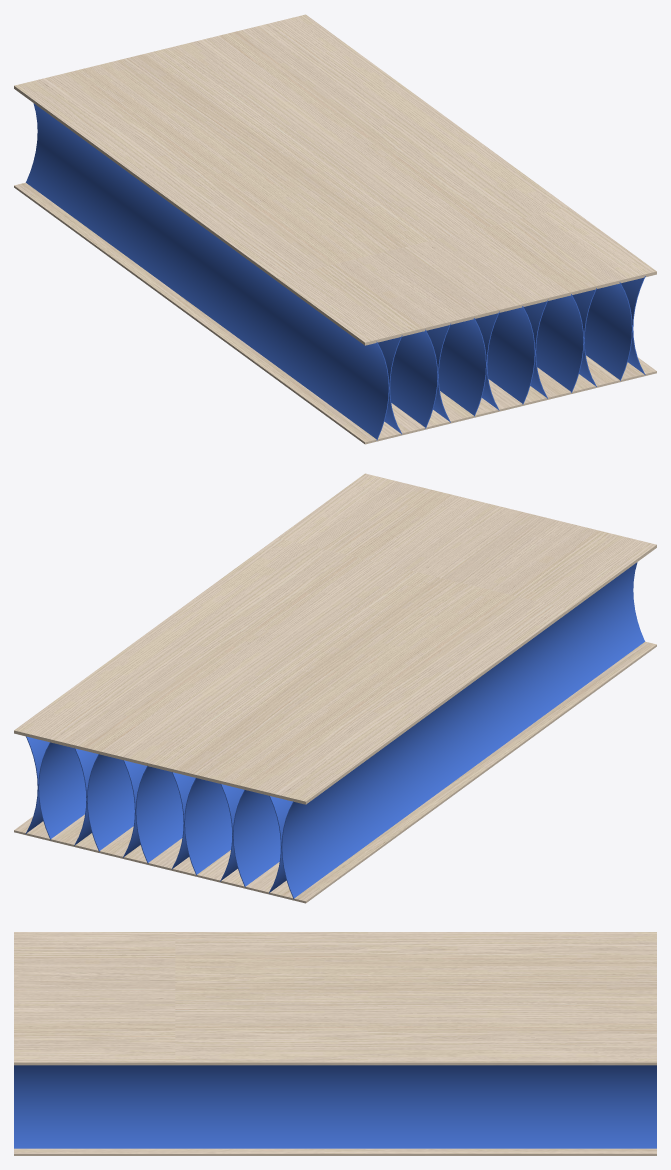
File: Panel.glb
The picture shows the model from 3 angles, top to bottom: view 1: azimuth 30°, elevation 25°; view 2: azimuth 150°, elevation 25°; view 3: azimuth 270°, elevation 25°; orthographic projection. The views are drawn at different scales.
Visible parts, largest first — view 1: Cube.001, Cylinder, Cylinder.001, Cube.002; view 2: Cube.001, Cylinder, Cylinder.001, Cube.002; view 3: Cube.001, Cylinder.001, Cube.002.
Part boxes in pixels (x1,y1,x2,y2): Cube.001: (14, 14, 656, 345); Cylinder: (26, 103, 389, 440); Cylinder.001: (378, 276, 645, 434); Cube.002: (14, 182, 656, 444); Cube.001: (14, 473, 656, 804); Cylinder: (281, 562, 644, 899); Cylinder.001: (25, 736, 292, 893); Cube.002: (14, 641, 656, 903); Cube.001: (14, 932, 656, 1065); Cylinder.001: (14, 1065, 656, 1148); Cube.002: (14, 1148, 656, 1155).
Bounding box in the file's own units: 1.2 × 0.4 × 2.5.
4 materials, 2 textured.
